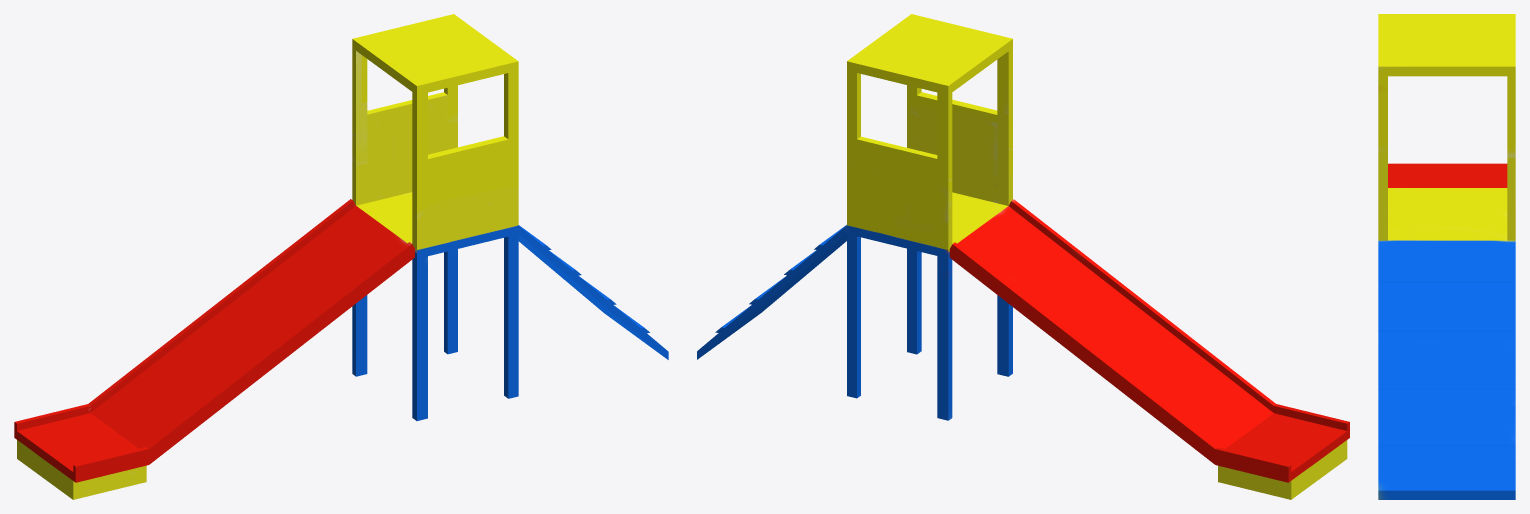
The model's file is Resbaladilla_prefab.fbx.
3 views of the same model, side by side, from view 1: azimuth 30°, elevation 25°; view 2: azimuth 150°, elevation 25°; view 3: azimuth 270°, elevation 25° (orthographic). The views are drawn at different scales.
Parts seen in each view (by area): view 1: Cube; view 2: Cube; view 3: Cube.
Boxes of the visible parts, bbox=[...] form: Cube: bbox=[14, 14, 668, 499]; Cube: bbox=[697, 14, 1349, 499]; Cube: bbox=[1378, 14, 1515, 499].
Size of the model in its own units: 1170 by 635 by 222.
Materials: 1 (1 with a texture image).
